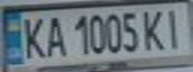0: (103, 10, 124, 54), (87, 11, 106, 54)
1: (69, 11, 90, 56)
5: (121, 8, 142, 53)
A: (42, 12, 69, 59)
I: (160, 4, 190, 51)
K: (18, 13, 48, 60), (139, 7, 169, 52)
